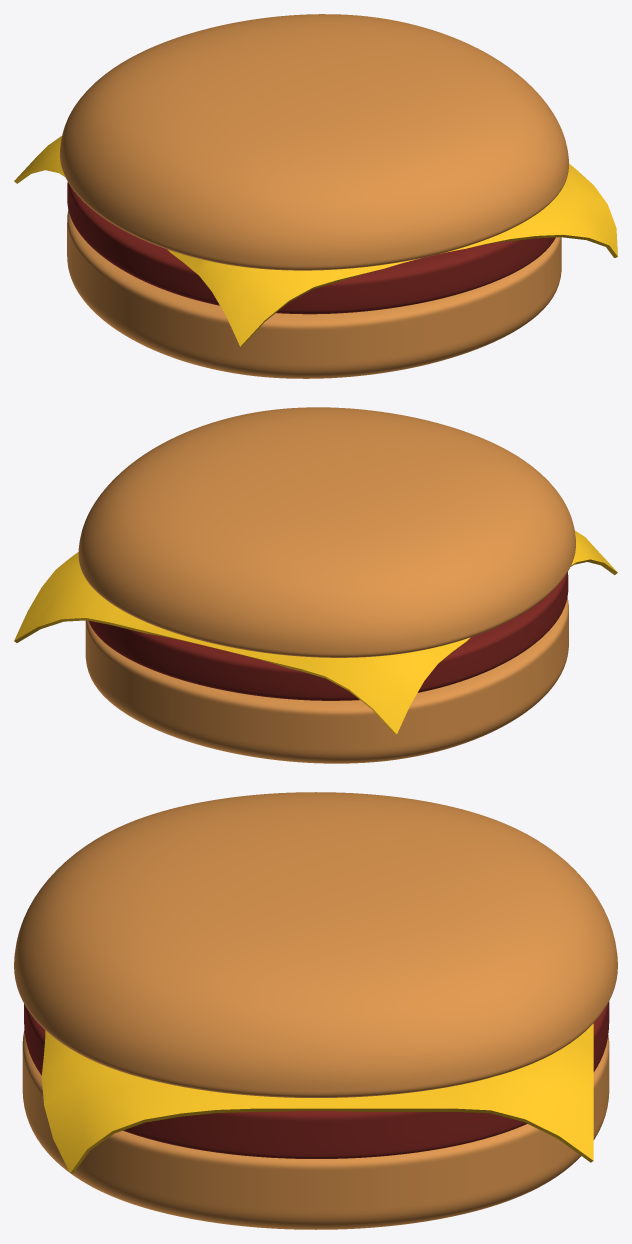
The model's file is hamburger.glb.
The picture shows the model from 3 angles, top to bottom: view 1: azimuth 30°, elevation 25°; view 2: azimuth 150°, elevation 25°; view 3: azimuth 270°, elevation 25°; orthographic projection. The views are drawn at different scales.
Visible parts, largest first — view 1: Cube.002, Cube, Cube.001, Plane; view 2: Cube.002, Cube, Cube.001, Plane; view 3: Cube.002, Cube, Plane, Cube.001.
Part boxes in pixels (x1,y1,x2,y2): Cube.002: (60,14,568,270); Cube: (67,210,561,378); Cube.001: (67,182,555,314); Plane: (14,136,617,347); Cube.002: (78,407,575,657); Cube: (85,598,568,763); Cube.001: (88,572,568,700); Plane: (14,530,617,734); Cube.002: (14,792,617,1097); Cube: (22,1030,609,1229); Plane: (41,1023,593,1173); Cube.001: (24,1002,609,1158).
Size of the model in its own units: 9.47 by 4.65 by 9.47.
